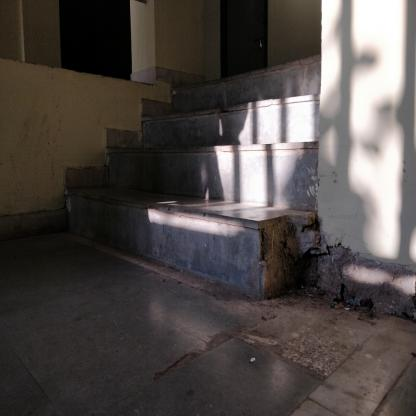stairs: (177, 79, 259, 297)
